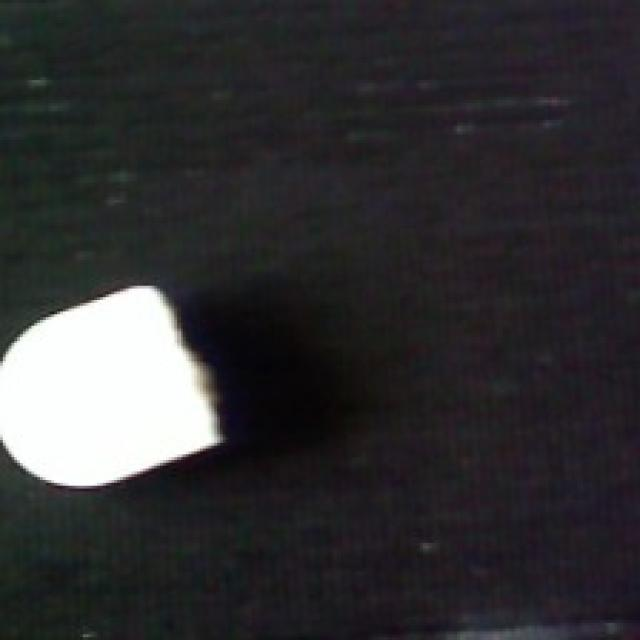defected: (0, 277, 234, 494)
